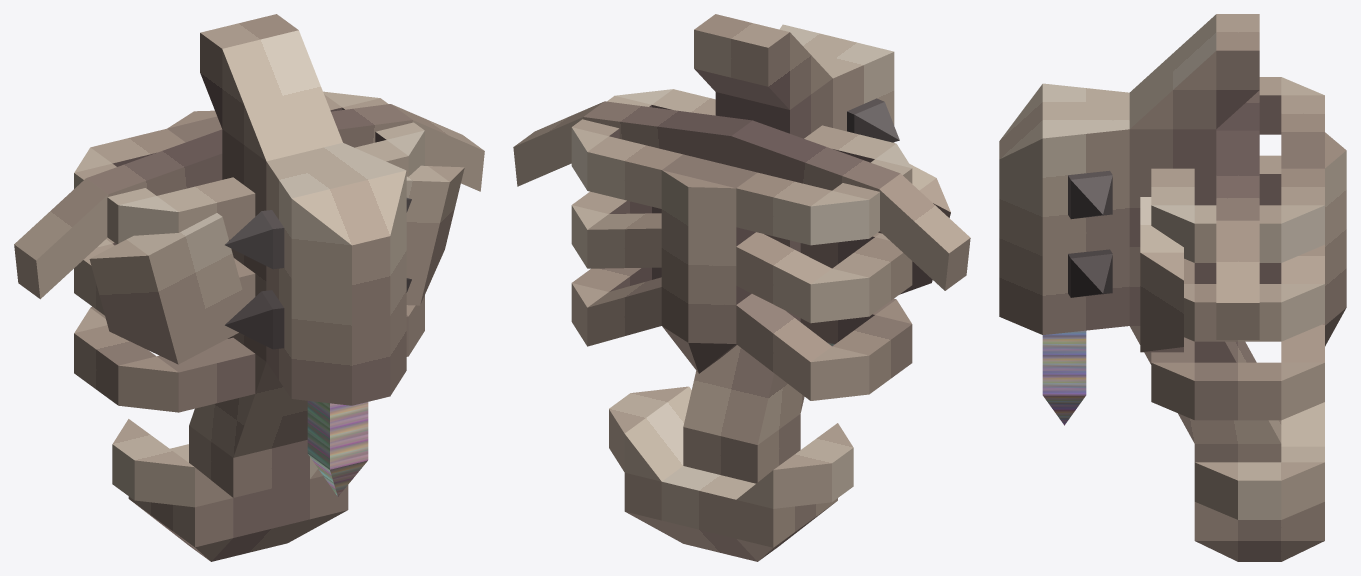
The model's file is torso_mana.obj.
The picture shows the model from 3 angles, left to right: view 1: azimuth 30°, elevation 25°; view 2: azimuth 150°, elevation 25°; view 3: azimuth 270°, elevation 25°; orthographic projection. The views are drawn at different scales.
Visible parts, largest first — view 1: TORSO_BONE_MANA_Cube.431; view 2: TORSO_BONE_MANA_Cube.431; view 3: TORSO_BONE_MANA_Cube.431.
Boxes of the visible parts, bbox=[...] form: TORSO_BONE_MANA_Cube.431: bbox=[14, 14, 484, 561]; TORSO_BONE_MANA_Cube.431: bbox=[513, 14, 970, 561]; TORSO_BONE_MANA_Cube.431: bbox=[999, 14, 1346, 561].
Bounding box in the file's own units: 0.7319 × 0.8125 × 0.5.
